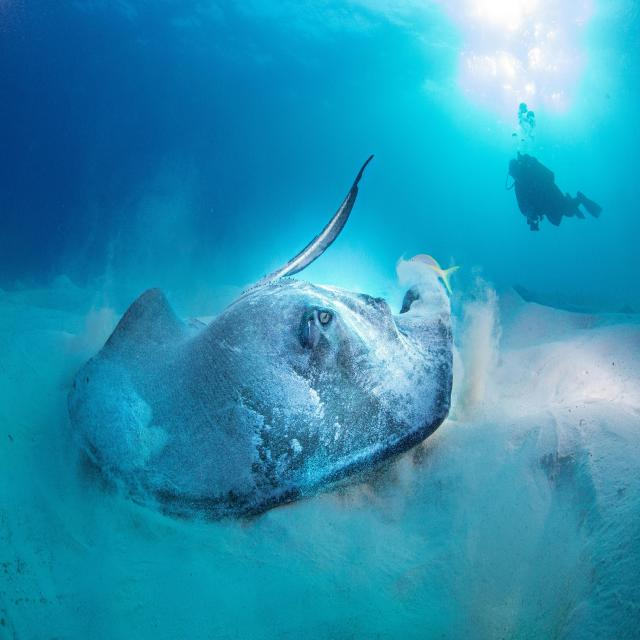fish: (509, 155, 602, 231)
stingray: (68, 165, 453, 519)
